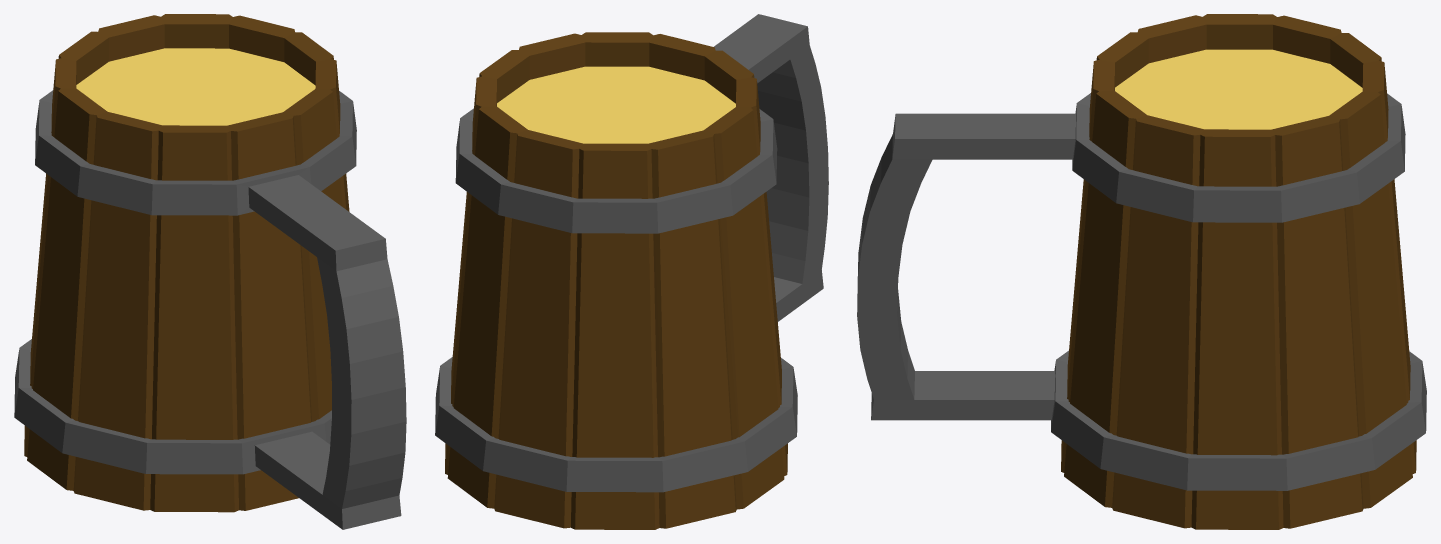
Rendered from Bierkrug.fbx.
3 views of the same model, side by side, from view 1: azimuth 30°, elevation 25°; view 2: azimuth 150°, elevation 25°; view 3: azimuth 270°, elevation 25° (orthographic). The views are drawn at different scales.
Visible parts, largest first — view 1: Cylinder, Circle; view 2: Cylinder, Circle; view 3: Cylinder, Circle.
Boxes of the visible parts, x1,y1,x2,y2 form: Cylinder: (24, 14, 349, 512); Circle: (14, 90, 406, 529); Cylinder: (445, 32, 787, 529); Circle: (435, 14, 828, 492); Cylinder: (1061, 14, 1416, 529); Circle: (857, 93, 1426, 490).
Size of the model in its own units: 119 by 133 by 180.
